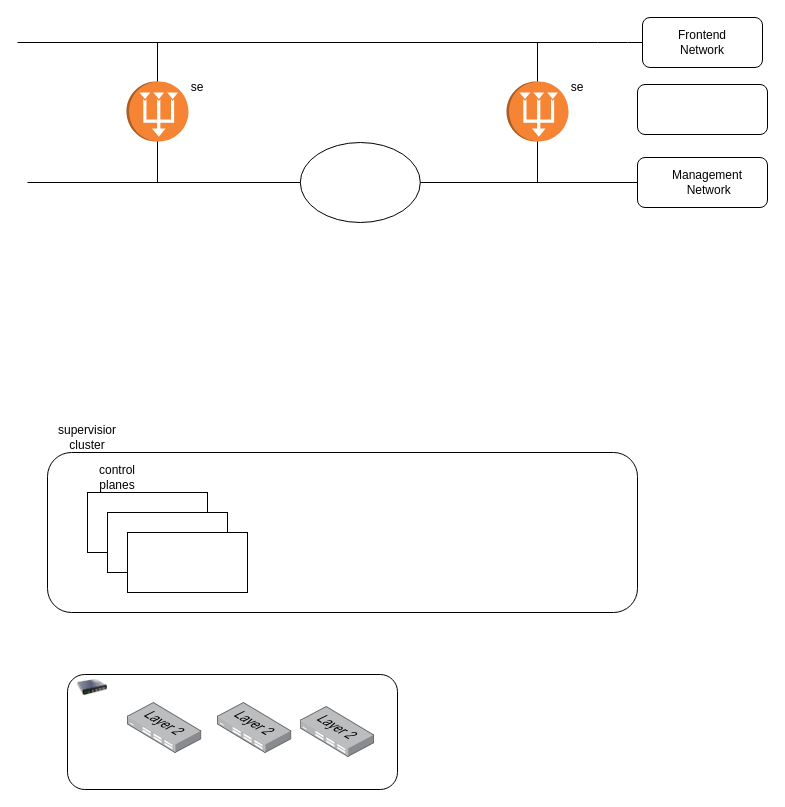
Image size: 785x807. Some labels were removed from this diagram. Here are the shapes that lost their labels. From the top down, the centre of each, then its label:
point 702,109: Workload Network
point 359,182: avi controller
